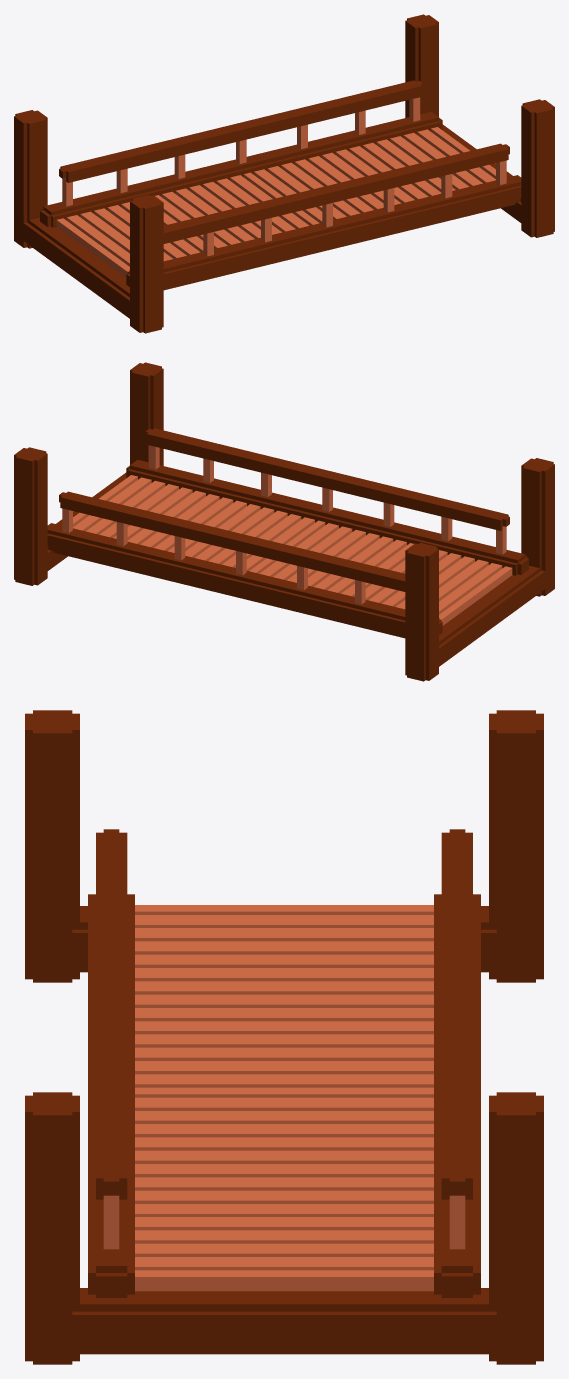
The model's file is featherBridge.obj.
3 renders of one model, top to bottom at view 1: azimuth 30°, elevation 25°; view 2: azimuth 150°, elevation 25°; view 3: azimuth 270°, elevation 25°, orthographic. The views are drawn at different scales.
Bounding box in the file's own units: 122 × 35 × 66.
Materials: 1 (1 with a texture image).
